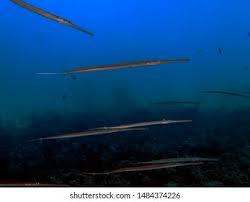Fistularia commersonii: (0, 114, 223, 148), (0, 0, 101, 41), (74, 153, 228, 178), (37, 56, 196, 75)
